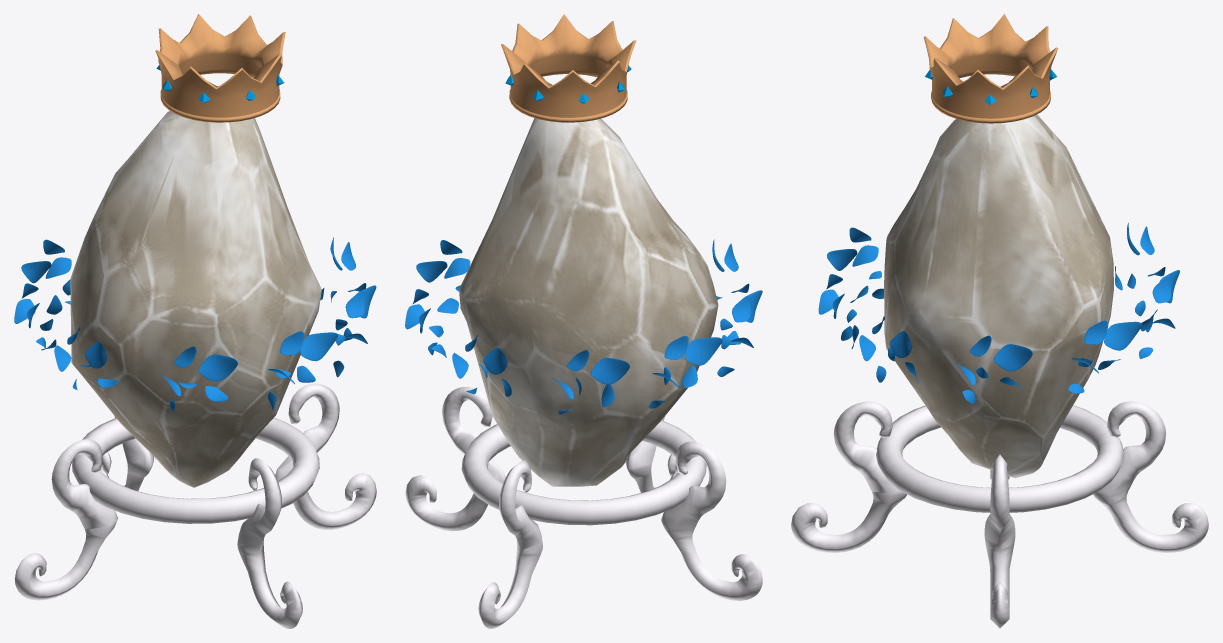
Rendered from JadeArdinals_1000.glb.
The picture shows the model from 3 angles, left to right: view 1: azimuth 30°, elevation 25°; view 2: azimuth 150°, elevation 25°; view 3: azimuth 270°, elevation 25°; orthographic projection.
Parts seen in each view (by area): view 1: White, BRSilver, CrownLapizTop, BluePetals; view 2: White, BRSilver, CrownLapizTop, BluePetals; view 3: White, BRSilver, CrownLapizTop, BluePetals.
Part boxes in pixels (x1,y1,x2,y2): White: [70, 111, 321, 487]; BRSilver: [14, 383, 376, 628]; CrownLapizTop: [155, 14, 285, 122]; BluePetals: [14, 237, 376, 416]; White: [459, 118, 718, 486]; BRSilver: [405, 386, 762, 628]; CrownLapizTop: [501, 14, 636, 122]; BluePetals: [405, 239, 762, 414]; White: [884, 114, 1113, 478]; BRSilver: [791, 401, 1208, 628]; CrownLapizTop: [923, 14, 1058, 123]; BluePetals: [818, 222, 1179, 403].
Bounding box in the file's own units: 3.45 × 4.74 × 3.45.
Materials: 5 (1 with a texture image).
